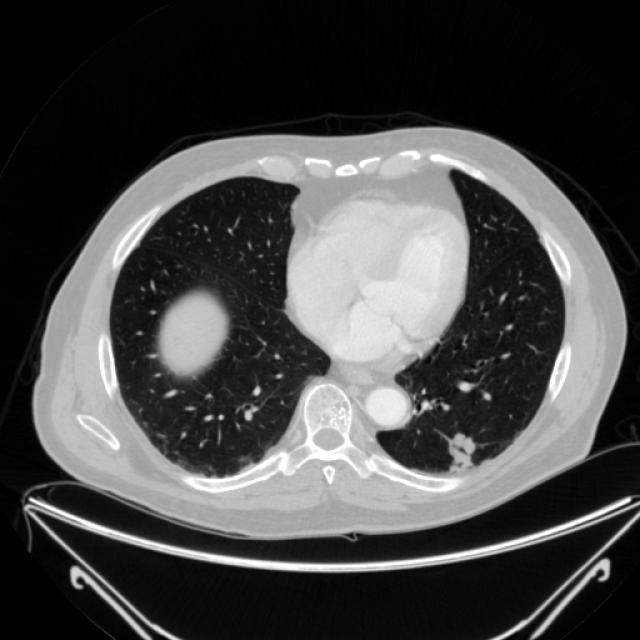nodule: (435, 424, 490, 478)
